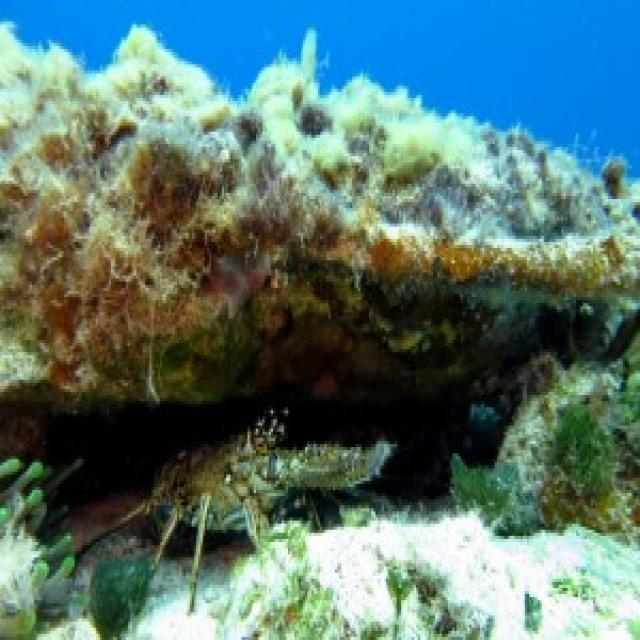lobsters: (109, 354, 405, 596)
